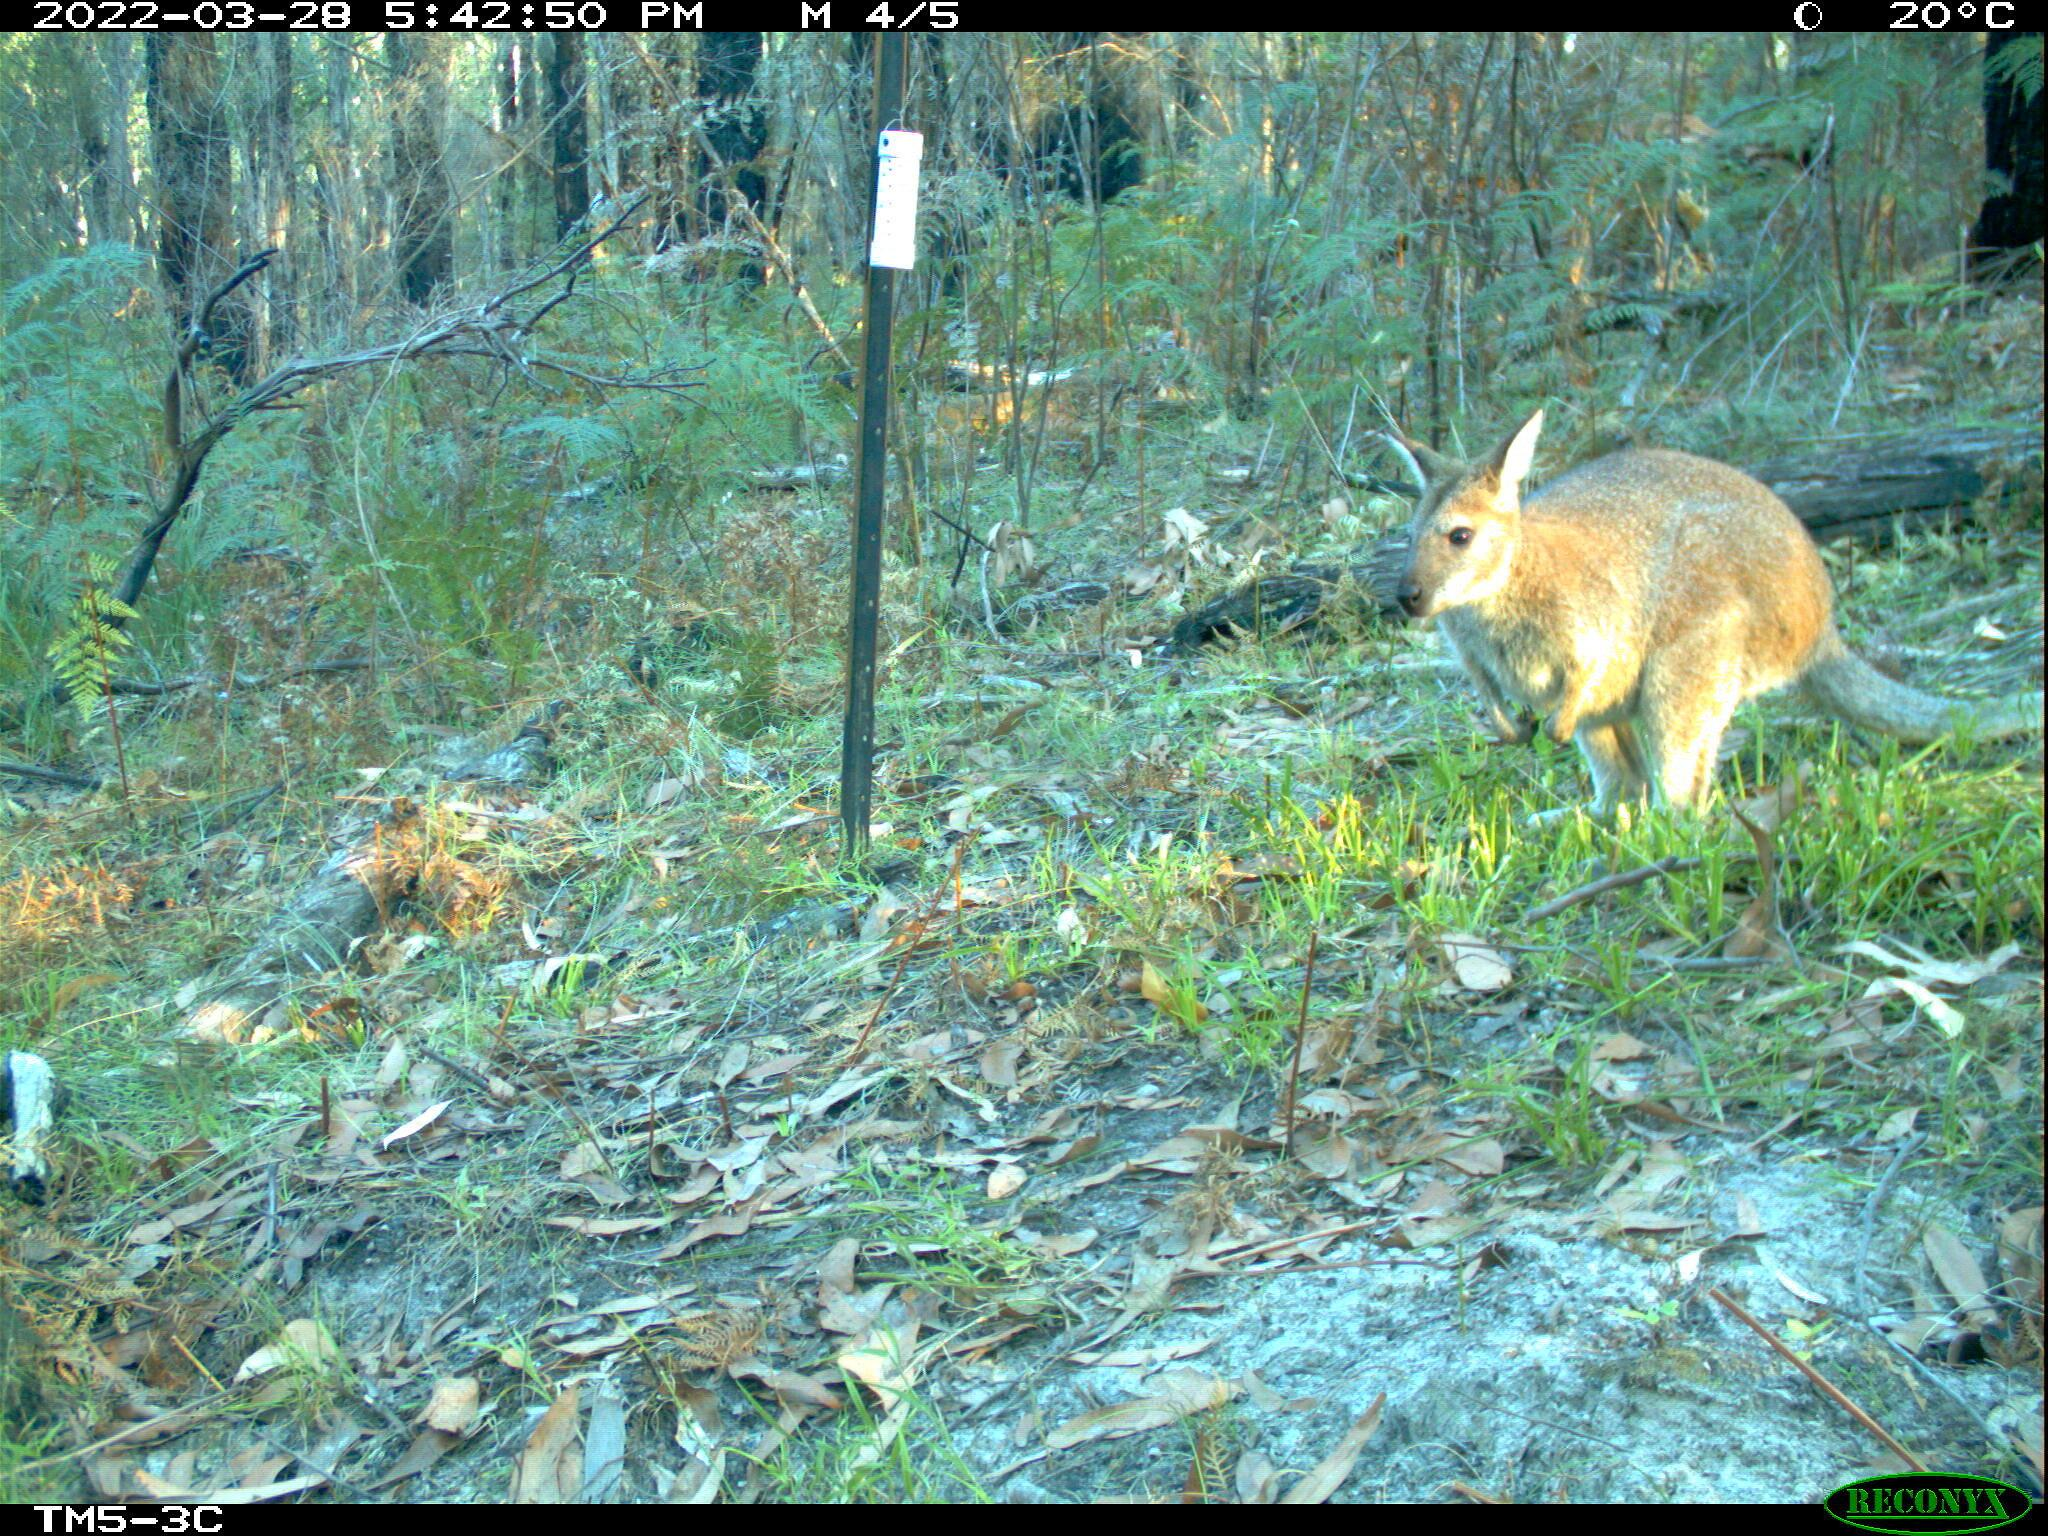Red-necked wallaby: (1359, 415, 2048, 829)
